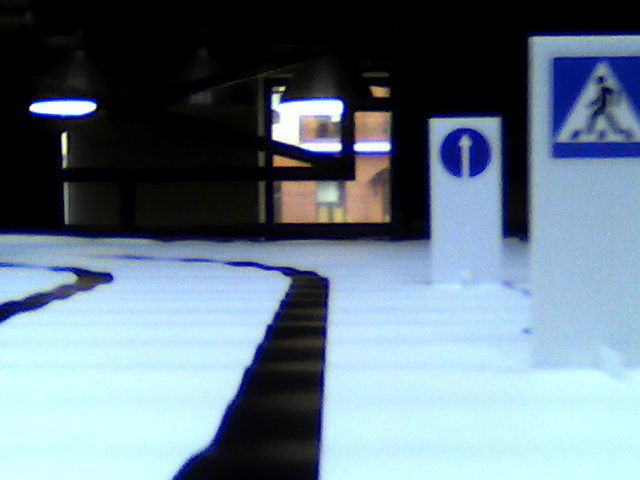forw: (440, 129, 489, 177)
pesh: (555, 62, 640, 158)
